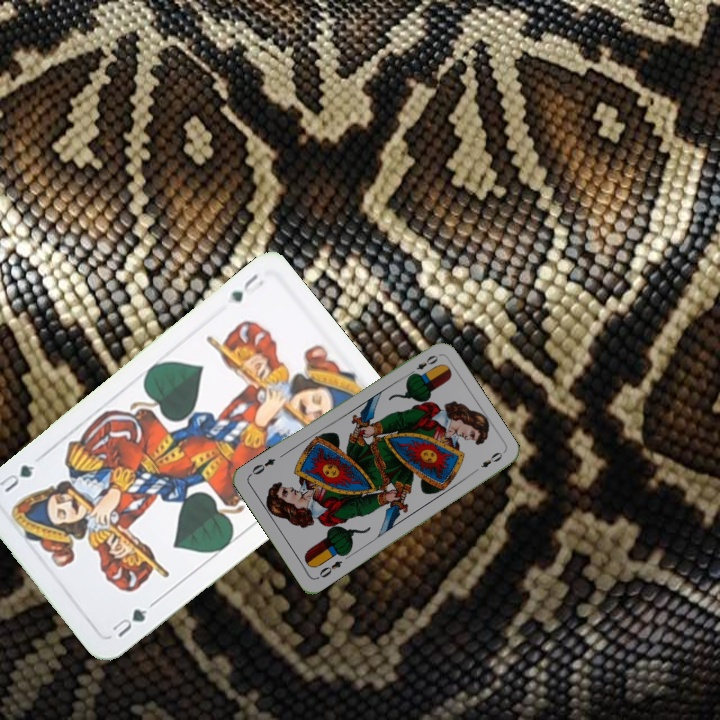EO: (404, 351, 441, 379), (313, 556, 345, 582)
GU: (108, 604, 150, 640), (226, 269, 261, 305)
